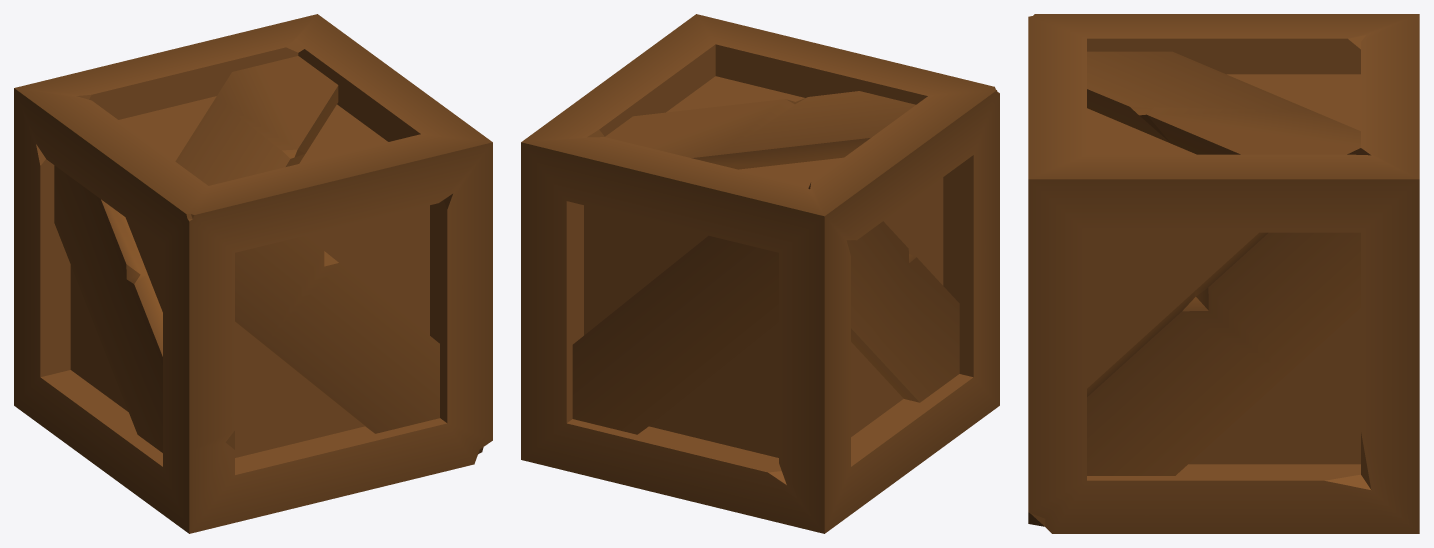
The model's file is OfficeandEnv_Caixotes.fbx.
3 views of the same model, side by side, from view 1: azimuth 30°, elevation 25°; view 2: azimuth 150°, elevation 25°; view 3: azimuth 270°, elevation 25° (orthographic). The views are drawn at different scales.
Parts seen in each view (by area): view 1: Caixote; view 2: Caixote; view 3: Caixote.
Boxes of the visible parts, x1,y1,x2,y2 form: Caixote: [14, 14, 492, 533]; Caixote: [521, 14, 999, 533]; Caixote: [1028, 14, 1419, 533].
Size of the model in its own units: 91.33 by 91.33 by 91.33.
